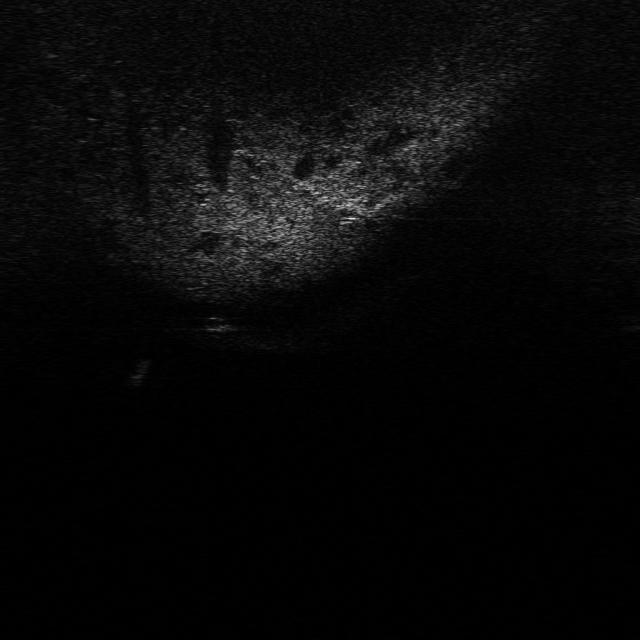cube: (198, 313, 237, 334)
cylinder: (126, 353, 150, 389)
